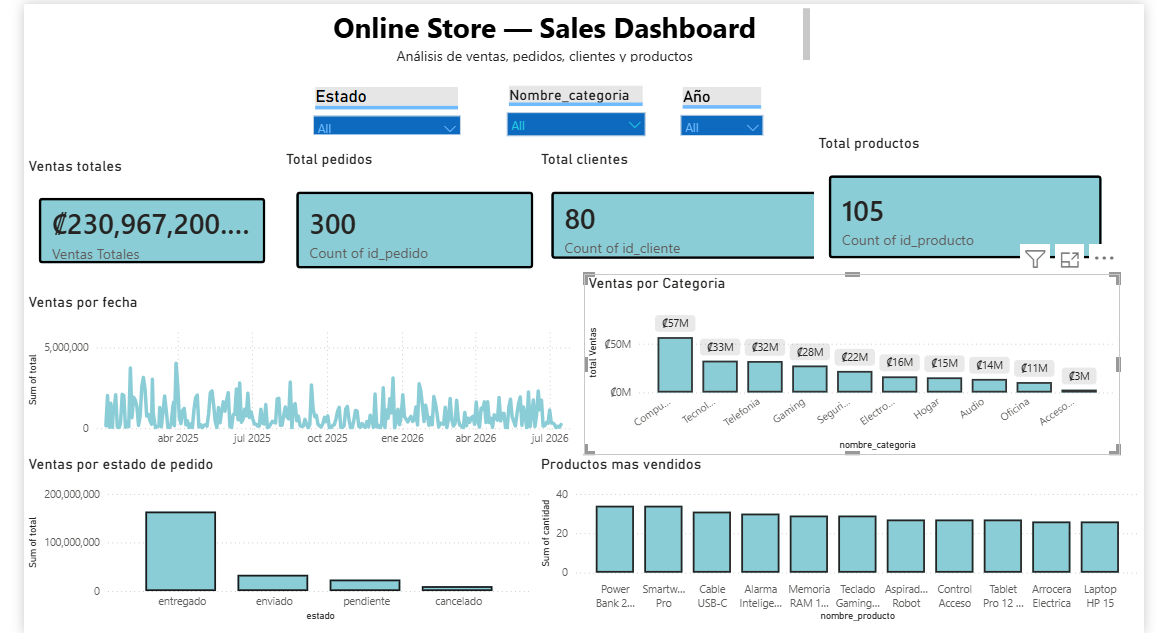

The dashboard page shown, as its layout file describes it:
{"tool":"powerbi","page":{"name":"Page 1","canvas":[1280,720],"ordinal":0},"visuals":[{"type":"cardVisual","title":"Ventas totales ","fields":{"Data":["categorias.Ventas Totales"]},"box":[0,173.8,293.8,140],"z":0},{"type":"cardVisual","title":"Total pedidos","fields":{"Data":["CountNonNull(pedidos.id_pedido)"]},"box":[293.8,167.5,305,152.5],"z":1000},{"type":"cardVisual","title":"Total clientes","fields":{"Data":["CountNonNull(clientes.id_cliente)"]},"box":[586.2,167.5,347.5,141.2],"z":2000},{"type":"cardVisual","title":"Total productos","fields":{"Data":["CountNonNull(productos.id_producto)"]},"box":[902.5,148.8,346.2,160],"z":3000},{"type":"columnChart","title":"Ventas por Categoria","fields":{"Category":["categorias.nombre_categoria"],"Y":["categorias.total Ventas"]},"box":[640,308.8,612.5,206.2],"z":4000},{"type":"columnChart","title":"Ventas por estado de pedido","fields":{"Category":["pedidos.estado"],"Y":["Sum(pedidos.total)"]},"box":[0,515,586.2,195],"z":5000},{"type":"clusteredColumnChart","title":"Productos mas vendidos","fields":{"Category":["productos.nombre_producto"],"Y":["Sum(detalle_pedido.cantidad)"]},"box":[586.2,515,693.8,195],"z":6000},{"type":"lineChart","title":"Ventas por fecha","fields":{"Y":["Sum(pedidos.total)"],"Category":["pedidos.fecha_pedido"]},"box":[0,330,640,185],"z":7000},{"type":"textbox","box":[293.8,0,608.8,71.2],"z":8000},{"type":"slicer","fields":{"Values":["pedidos.fecha_pedido.Variation.Date Hierarchy.Year"]},"box":[740.5,89.3,115,60],"z":9000},{"type":"slicer","fields":{"Values":["categorias.nombre_categoria"]},"box":[541.2,88.8,178.8,76.2],"z":10000},{"type":"slicer","fields":{"Values":["pedidos.estado"]},"box":[320.2,89.3,189.3,59.5],"z":11000}]}

Visuals, with their boxes in screenshot pixels (x1, y1, x2, y2), scaled from the page's 1280x720 canvas onto the 1156x633 screenshot:
"Ventas totales " cardVisual: (x1=0, y1=153, x2=265, y2=276)
"Total pedidos" cardVisual: (x1=265, y1=147, x2=541, y2=281)
"Total clientes" cardVisual: (x1=529, y1=147, x2=843, y2=271)
"Total productos" cardVisual: (x1=815, y1=131, x2=1128, y2=271)
"Ventas por Categoria" columnChart: (x1=578, y1=271, x2=1131, y2=453)
"Ventas por estado de pedido" columnChart: (x1=0, y1=453, x2=529, y2=624)
"Productos mas vendidos" clusteredColumnChart: (x1=529, y1=453, x2=1155, y2=624)
"Ventas por fecha" lineChart: (x1=0, y1=290, x2=578, y2=453)
textbox: (x1=265, y1=0, x2=815, y2=63)
slicer - pedidos.fecha_pedido.Variation.Date Hierarchy.Year: (x1=669, y1=79, x2=773, y2=131)
slicer - categorias.nombre_categoria: (x1=489, y1=78, x2=650, y2=145)
slicer - pedidos.estado: (x1=289, y1=79, x2=460, y2=131)
